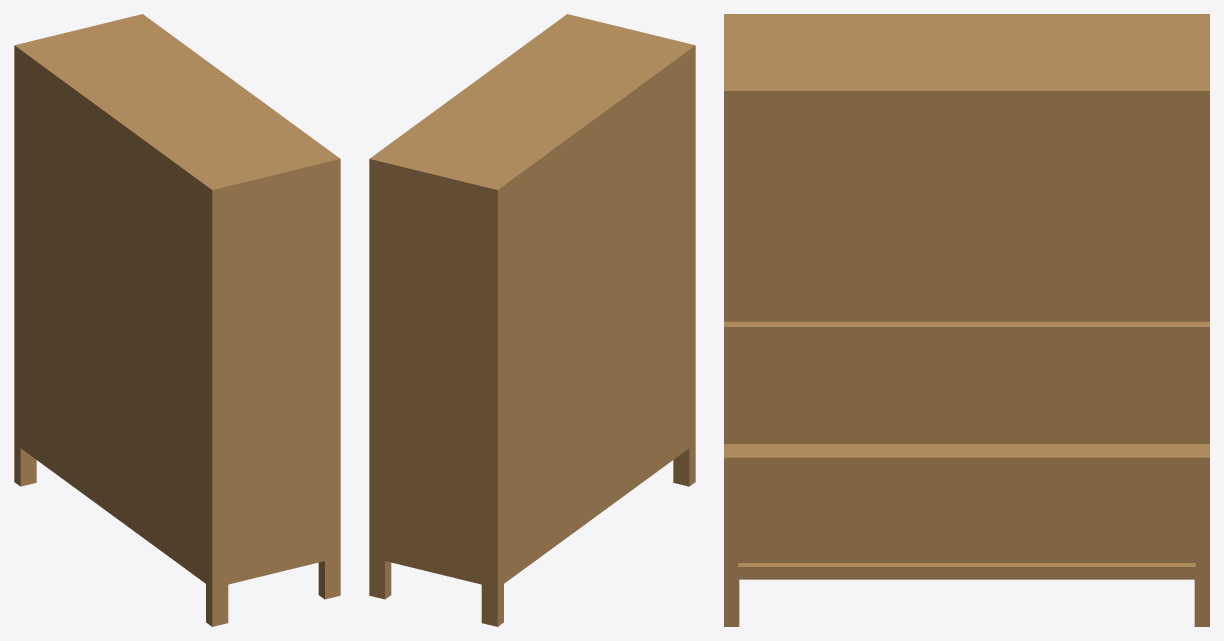
The model's file is wardrobe.fbx.
3 views of the same model, side by side, from view 1: azimuth 30°, elevation 25°; view 2: azimuth 150°, elevation 25°; view 3: azimuth 270°, elevation 25° (orthographic). The views are drawn at different scales.
Visible parts, largest first — view 1: Cube; view 2: Cube; view 3: Cube.
Part boxes in pixels (box(x1,y1,x2,y2)): Cube: box(14, 14, 340, 626); Cube: box(369, 14, 695, 626); Cube: box(724, 14, 1209, 626).
Bounding box in the file's own units: 136 × 442 × 363.
